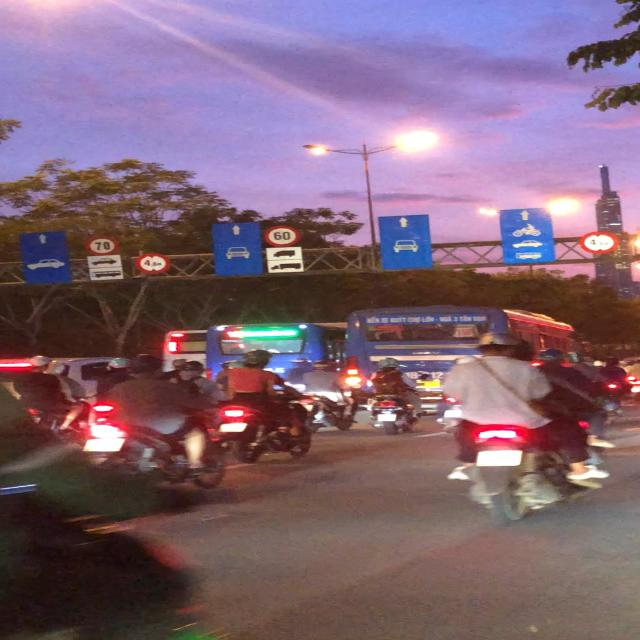Bien bao han che chieu cao: (578, 229, 622, 255), (134, 252, 170, 275)
Bien bao toc do toi da cho phep: (82, 234, 121, 255), (261, 222, 281, 251)
